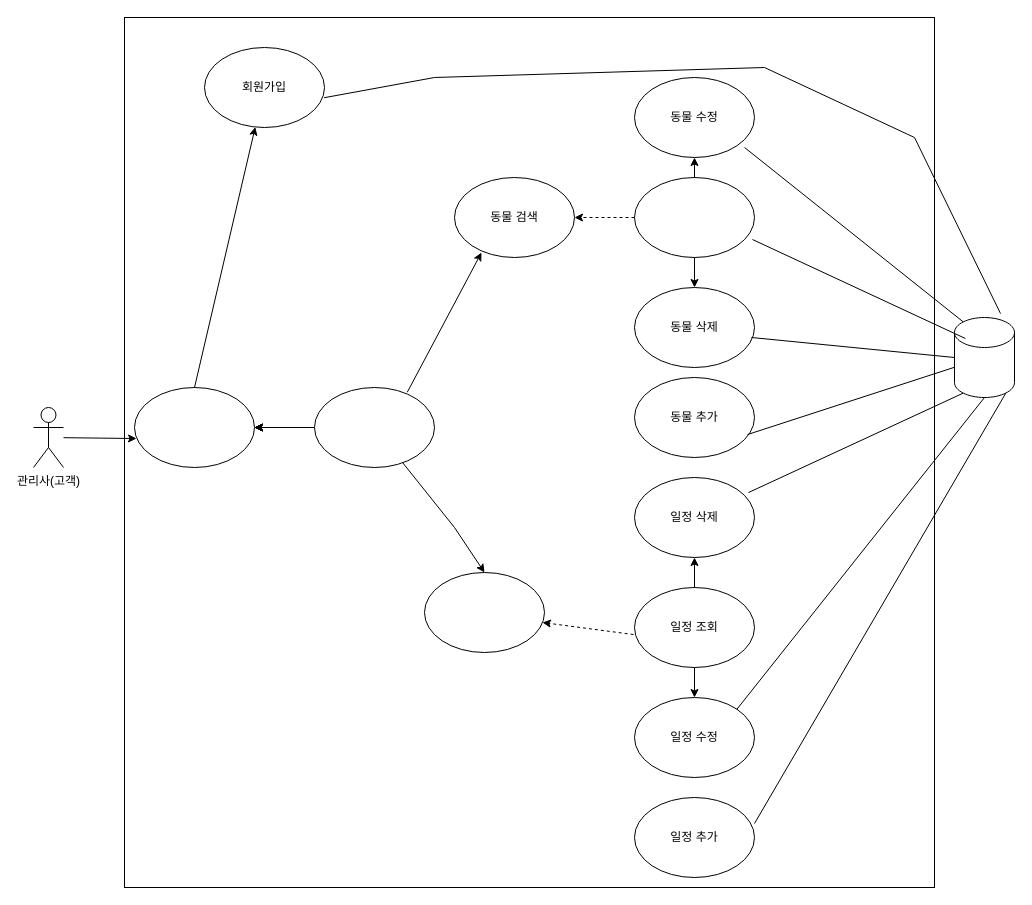
Image size: 1032x905. Some labels were removed from this diagram. Here are the shapes that lost their labels. From the top down, the box of each, then its label:
(634, 176, 754, 258): 동물 조회
(954, 316, 1014, 398): DB
(134, 386, 254, 468): 로그인
(314, 386, 434, 468): 메인 화면
(424, 572, 544, 652): 일정
